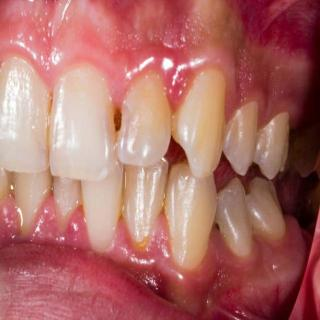Gum Swelling: (1, 30, 238, 123), (108, 212, 241, 285), (27, 193, 92, 251), (0, 197, 19, 249)
cavities: (102, 102, 126, 138), (210, 220, 226, 237)
maligned: (213, 178, 250, 264), (248, 175, 284, 238)
stains: (111, 180, 147, 256), (149, 187, 179, 251), (42, 81, 59, 161), (161, 95, 187, 140)
